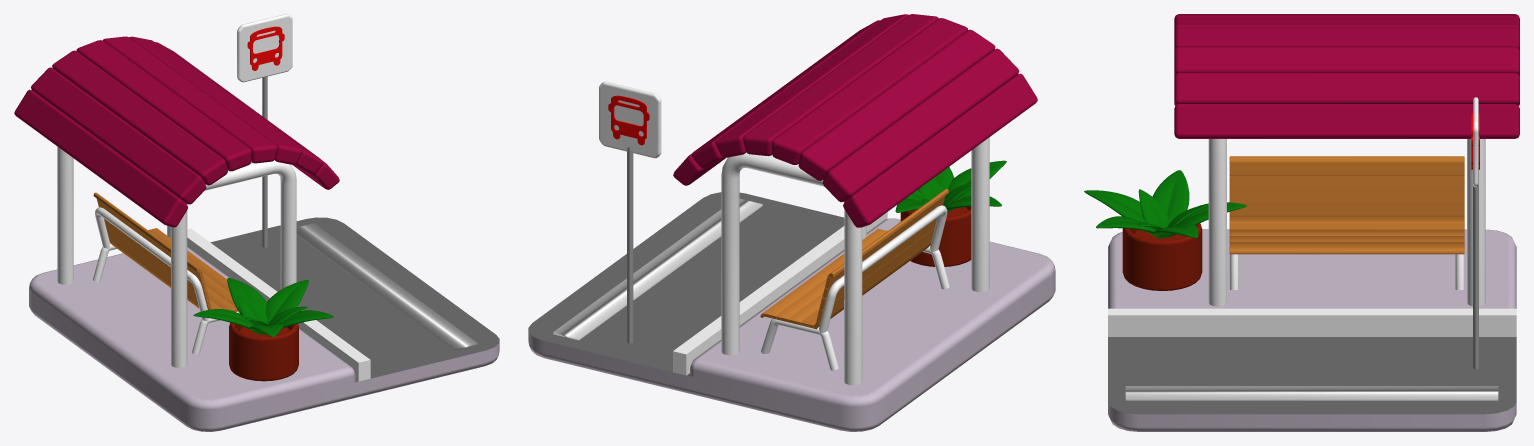
The model's file is sign.fbx.
3 views of the same model, side by side, from view 1: azimuth 30°, elevation 25°; view 2: azimuth 150°, elevation 25°; view 3: azimuth 270°, elevation 25° (orthographic). The views are drawn at different scales.
Parts seen in each view (by area): view 1: Cylinder, Plane, Plane.001, Vert, Plane.013, Plane.002, Circle, Plane.003, Plane.004, Vert.001, Plane.009, Curve (+5 smaller); view 2: Cylinder, Plane, Plane.001, Vert, Plane.002, Plane.013, Plane.003, Vert.001, Plane.004, Circle, Vert.002, Curve (+1 smaller); view 3: Cylinder, Plane.001, Plane, Plane.002, Plane.003, Plane.013, Vert, Circle, Plane.006, Vert.002, Plane.007, Vert.001 (+5 smaller).
Part boxes in pixels (x1,y1,x2,y2): Cylinder: (14, 36, 339, 227); Plane: (29, 247, 499, 431); Plane.001: (210, 217, 499, 382); Vert: (57, 146, 296, 367); Plane.013: (296, 223, 477, 350); Plane.002: (93, 192, 237, 311); Circle: (229, 322, 298, 381); Plane.003: (187, 228, 370, 381); Plane.004: (237, 14, 292, 82); Vert.001: (93, 207, 239, 354); Plane.009: (265, 280, 308, 324); Curve: (247, 26, 284, 70); Cylinder: (673, 14, 1037, 227); Plane: (528, 218, 1055, 431); Plane.001: (528, 192, 844, 377); Vert: (721, 137, 989, 385); Plane.002: (760, 189, 948, 329); Plane.013: (553, 198, 762, 340); Plane.003: (673, 212, 887, 375); Vert.001: (761, 205, 949, 370); Plane.004: (599, 81, 661, 158); Circle: (900, 206, 971, 266); Vert.002: (627, 147, 633, 343); Curve: (608, 95, 649, 145); Cylinder: (1174, 14, 1519, 138); Plane.001: (1108, 337, 1516, 414); Plane: (1108, 229, 1516, 431); Plane.002: (1229, 156, 1464, 254); Plane.003: (1108, 308, 1516, 336); Plane.013: (1125, 386, 1498, 400); Vert: (1208, 139, 1485, 306); Circle: (1122, 223, 1202, 290); Plane.006: (1152, 170, 1189, 223); Vert.002: (1473, 170, 1478, 369); Plane.007: (1084, 190, 1147, 232); Vert.001: (1229, 254, 1464, 290).
Size of the model in its own units: 406 by 305 by 426.
